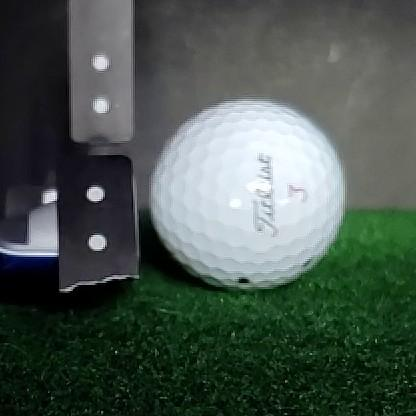golfball: (150, 100, 345, 290)
